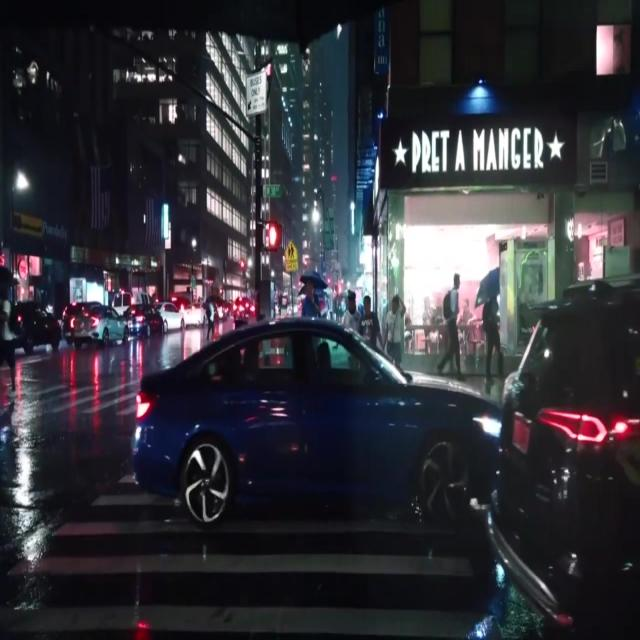Car: (129, 323, 498, 522)
